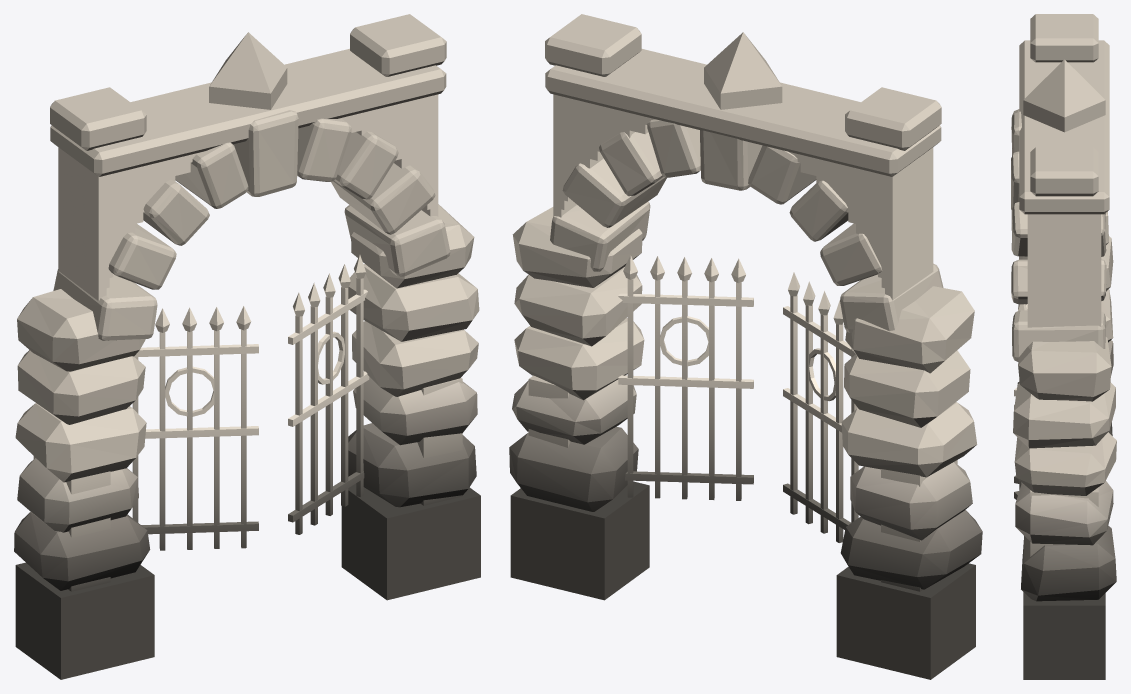
Rendered from SM_VK_LowWall_GateArch.fbx.
3 views of the same model, side by side, from view 1: azimuth 30°, elevation 25°; view 2: azimuth 150°, elevation 25°; view 3: azimuth 270°, elevation 25° (orthographic). The views are drawn at different scales.
Visible parts, largest first — view 1: SM_VK_LowWall_GateArch.001; view 2: SM_VK_LowWall_GateArch.001; view 3: SM_VK_LowWall_GateArch.001.
Part boxes in pixels (x1,y1,x2,y2): SM_VK_LowWall_GateArch.001: [14, 14, 480, 679]; SM_VK_LowWall_GateArch.001: [509, 14, 982, 679]; SM_VK_LowWall_GateArch.001: [1011, 14, 1116, 679].
Size of the model in its own units: 3.38 by 4.25 by 0.7732.
